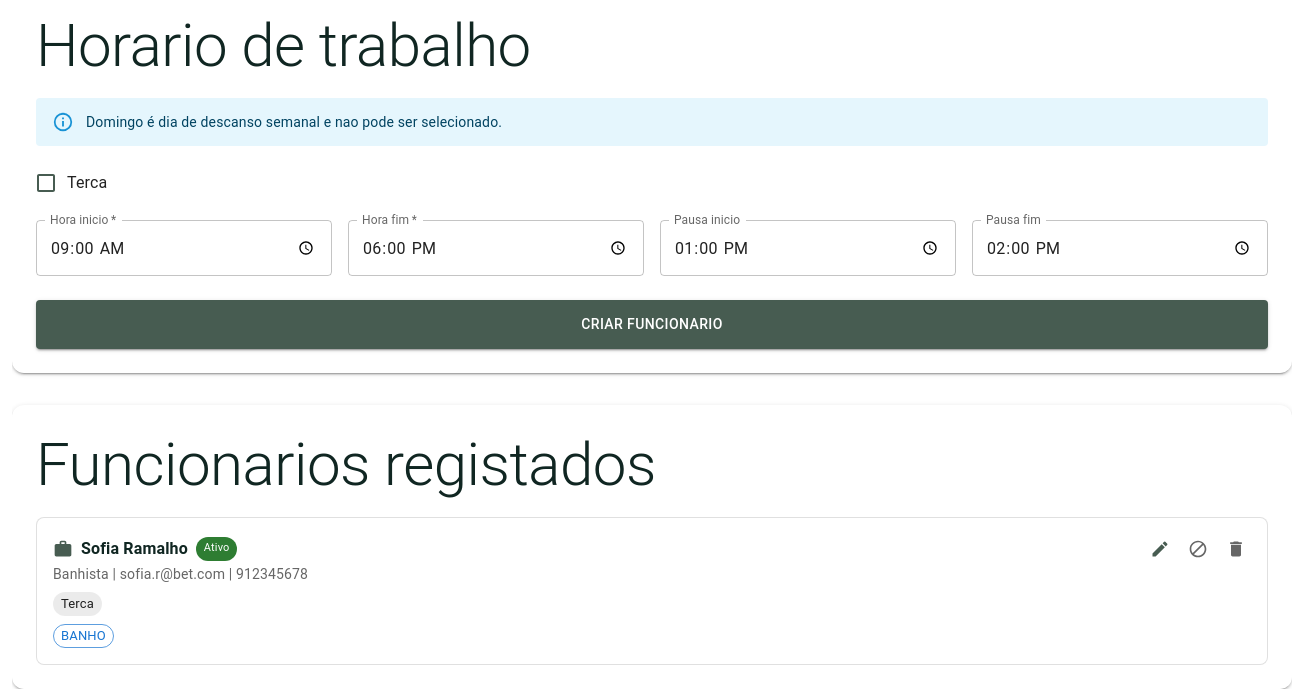
Scenario: Funcionarios page › edita funcionario existente e envia PUT
The width and height of the screenshot is (1292, 689).
(page scrolled)
Expected: the heading "Sofia Ramalho" is shown, [81,534,188,562]
Click the button named "Editar" at point(1160, 548), box [1145,534,1175,564]
(page scrolled)
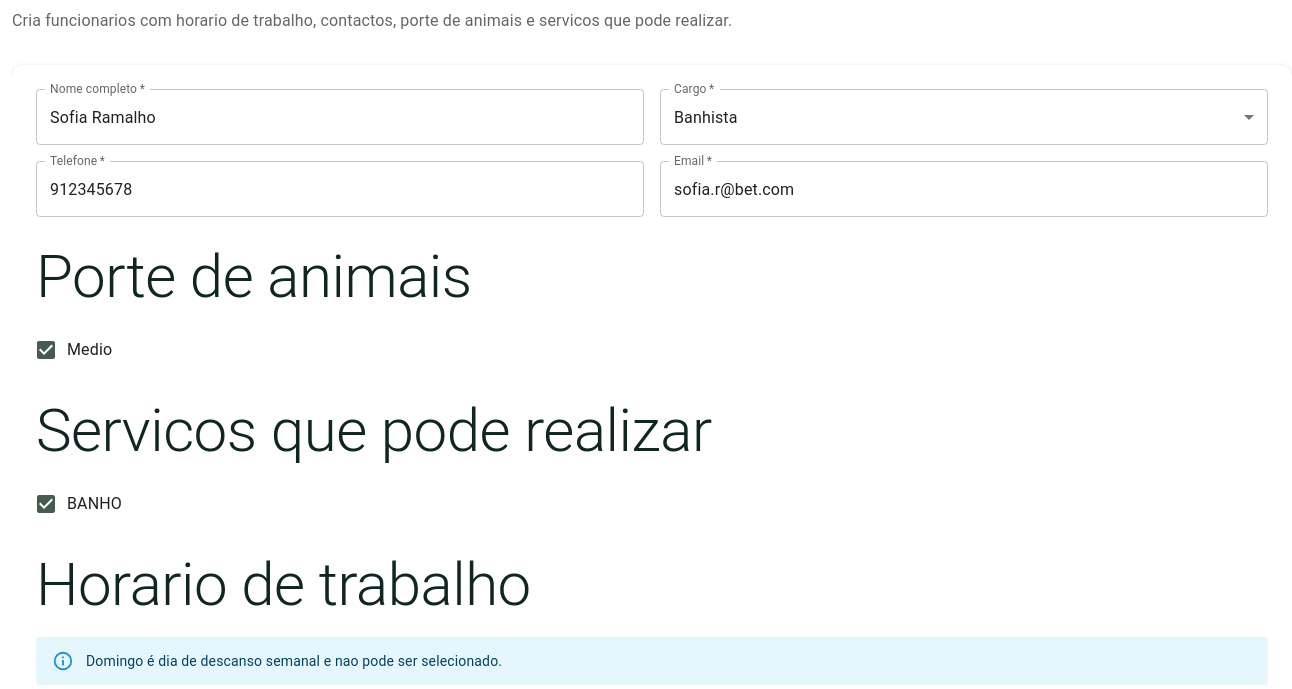
Replace the text in the field labelled "Telefone *" with "919999999" at point(340, 189), box [36,161,644,217]
(page scrolled)
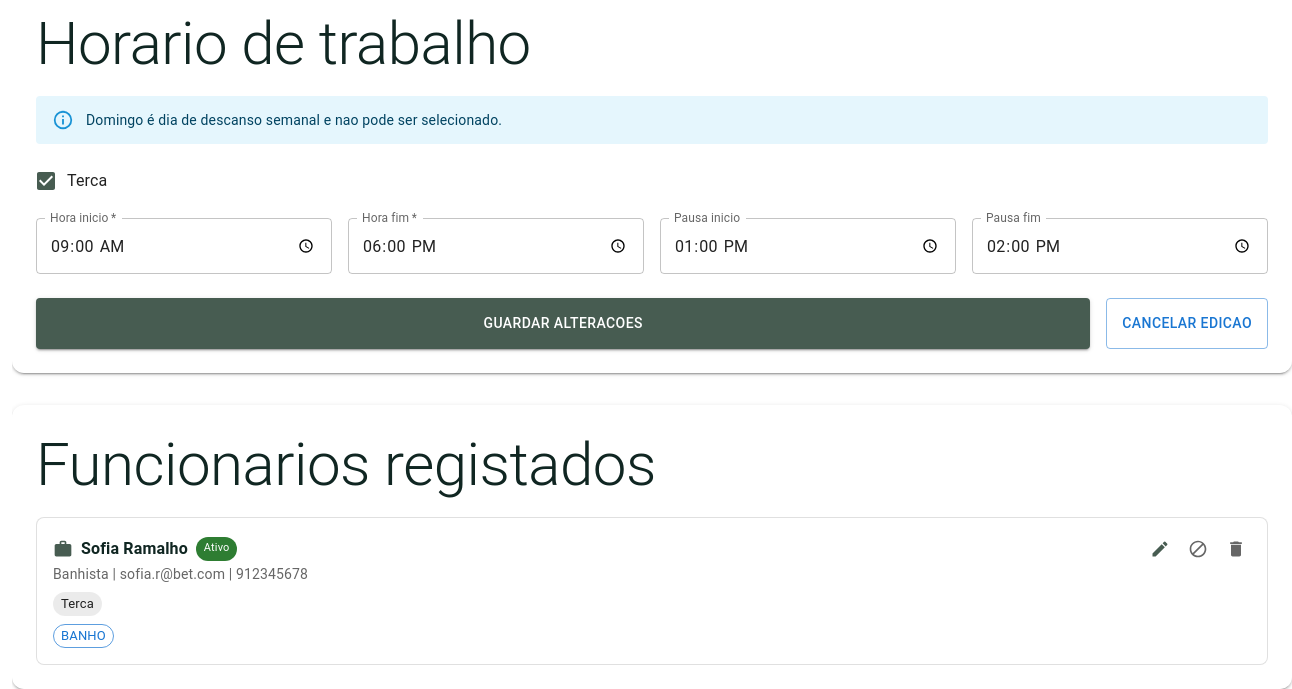
Click the button "Guardar alteracoes" at point(563, 323), box [36,298,1090,348]
(page scrolled)
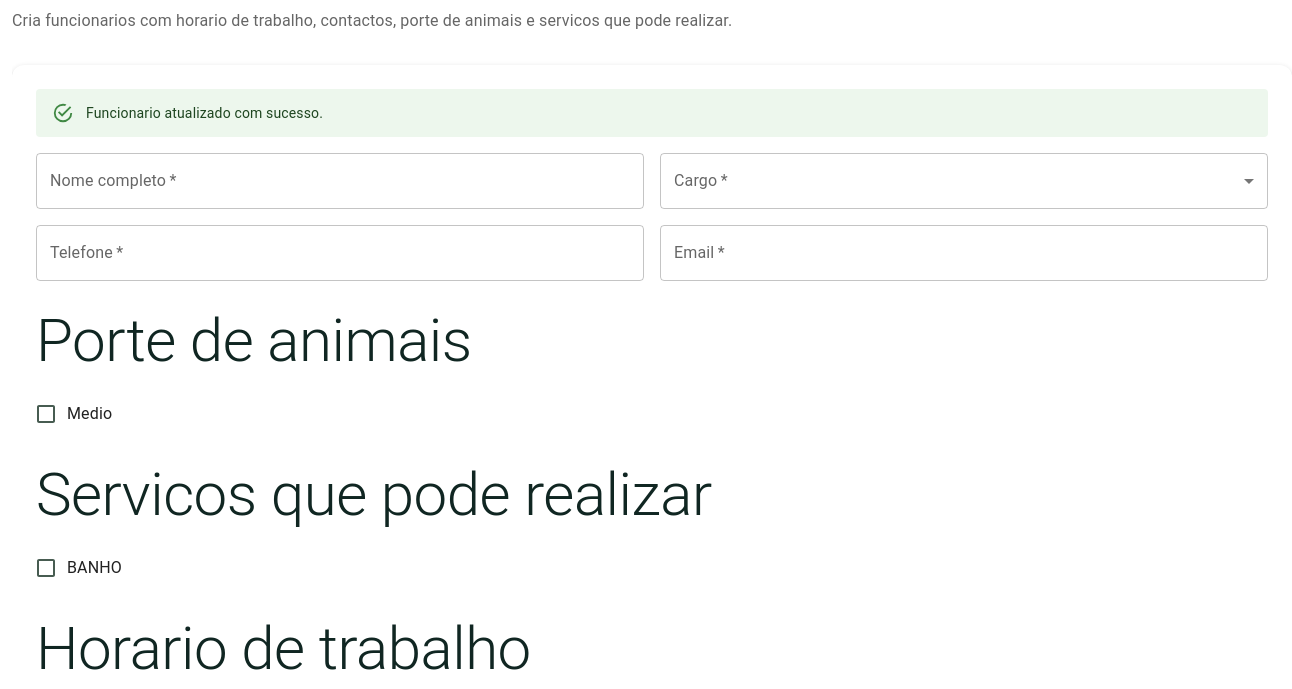
Expected: the text "Funcionario atualizado com sucesso." is shown, [86,105,323,121]
